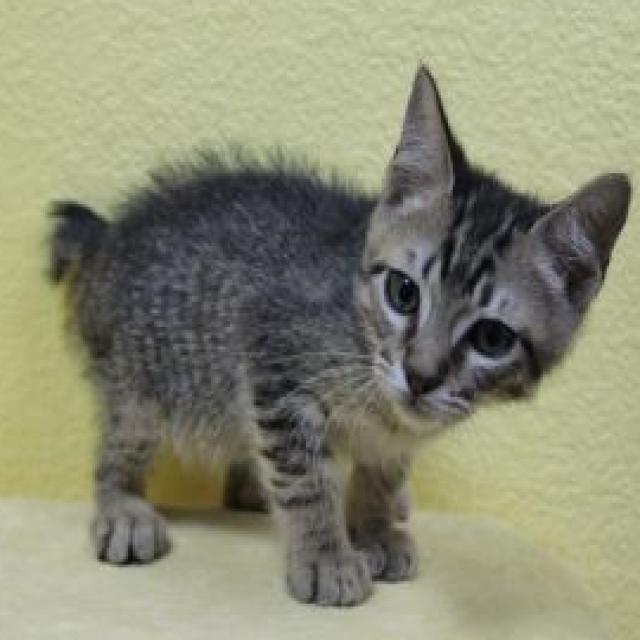American Bobtail: (37, 56, 636, 614)
